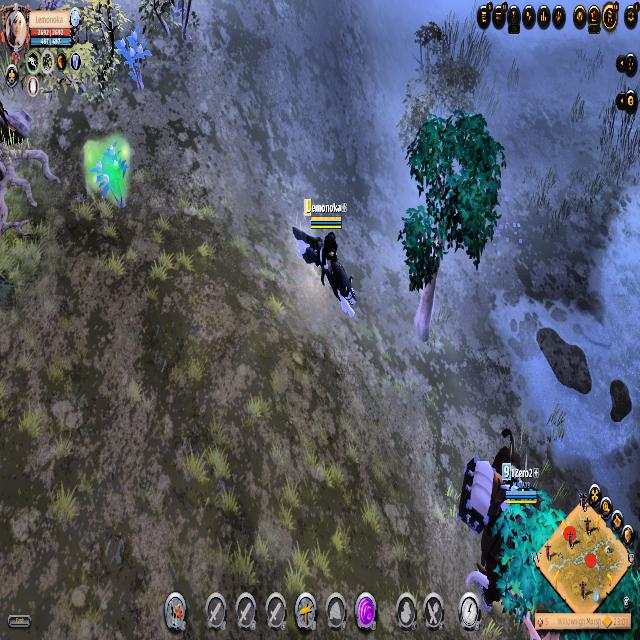fiber tier 4: (90, 142, 132, 208), (116, 23, 151, 91)
wood tier 3: (399, 105, 505, 299)
